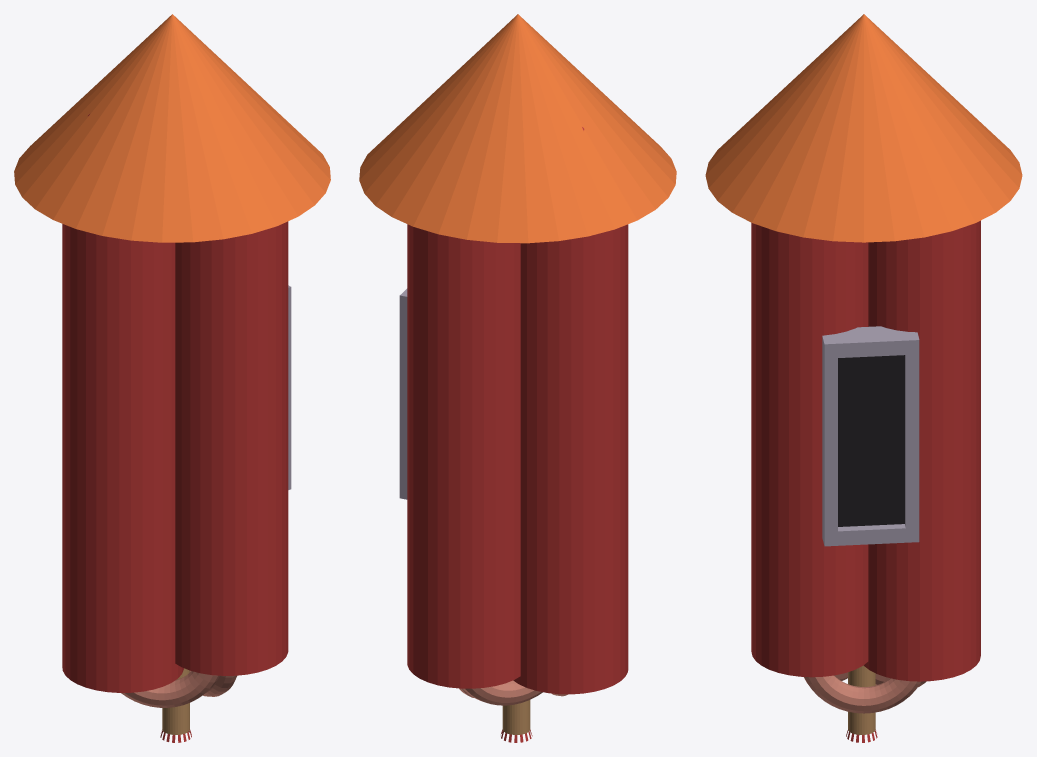
File: Bomb.gltf
The picture shows the model from 3 angles, left to right: view 1: azimuth 30°, elevation 25°; view 2: azimuth 150°, elevation 25°; view 3: azimuth 270°, elevation 25°; orthographic projection.
Parts seen in each view (by area): view 1: Bomb03; view 2: Bomb03; view 3: Bomb03.
Boxes of the visible parts, x1,y1,x2,y2 form: Bomb03: (14, 14, 330, 742); Bomb03: (359, 14, 676, 742); Bomb03: (705, 14, 1022, 742).
Size of the model in its own units: 1.17 by 2.93 by 1.17.
1 material, 1 textured.
